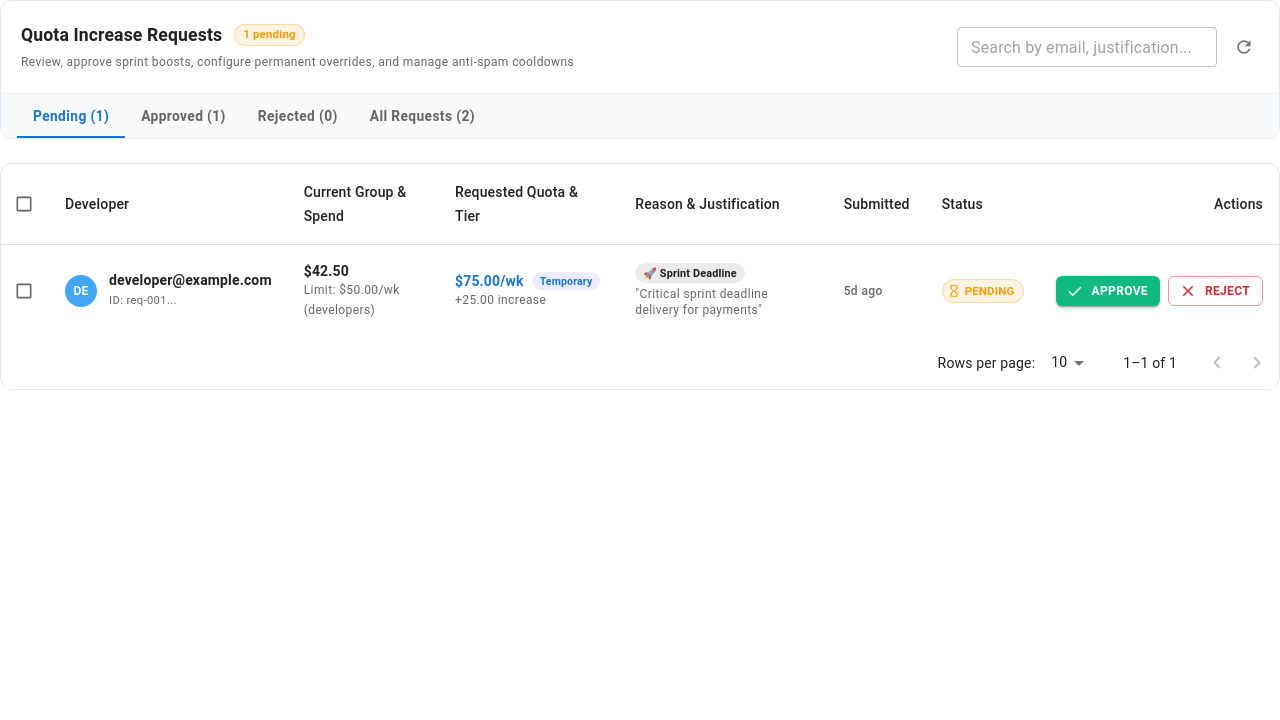
Test: Developer Self-Service & Quota Requests Components › RequestsTab › opens rejection dialog when Reject is clicked
The image size is (1280, 720).
Click the button "Reject" at {"x": 1216, "y": 291}, box 1168,276 -> 1263,306
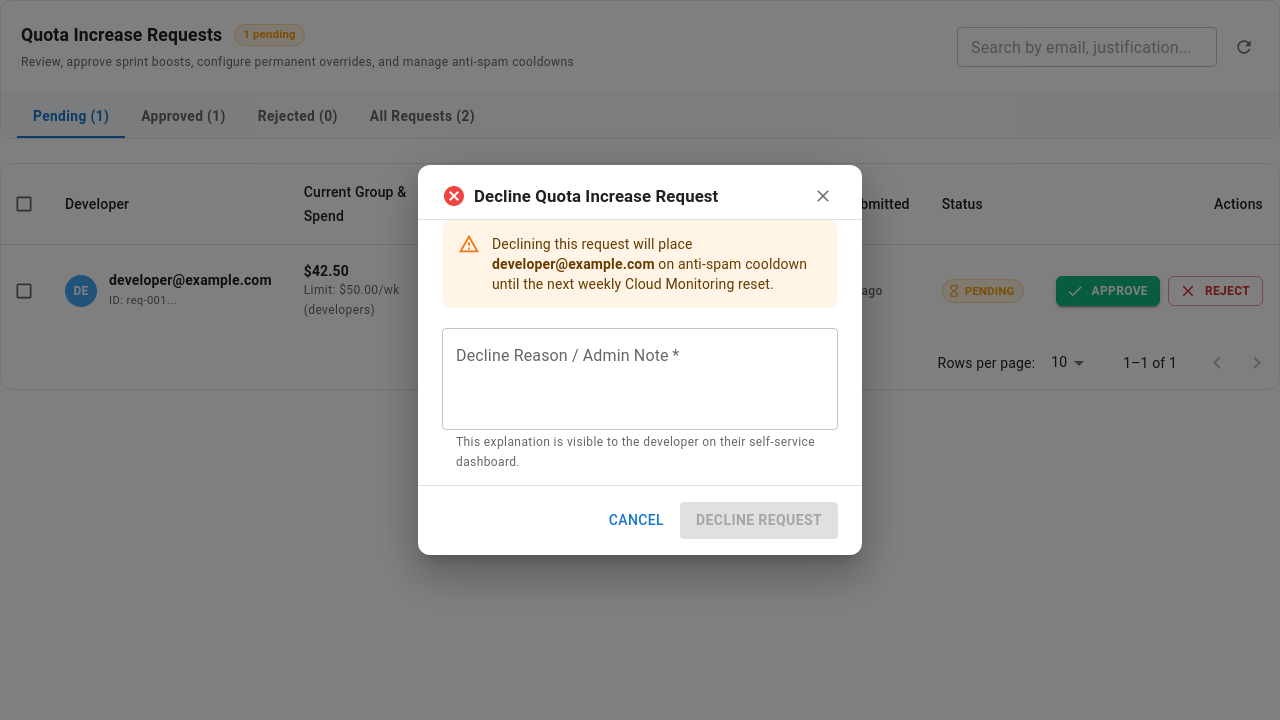
Now the heading "Decline Quota Increase Request" is shown, box 474,183 -> 718,210
Now the text box labelled "Decline Reason / Admin Note *" is shown, box 456,345 -> 824,414
